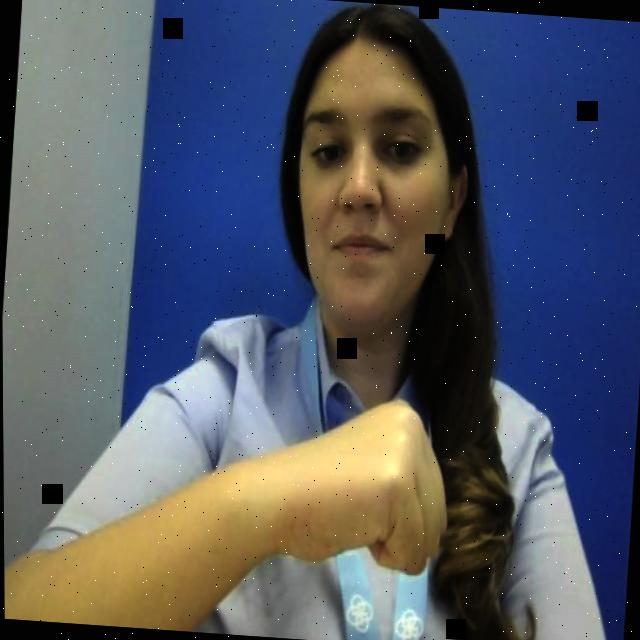Rock: (264, 384, 460, 590)
